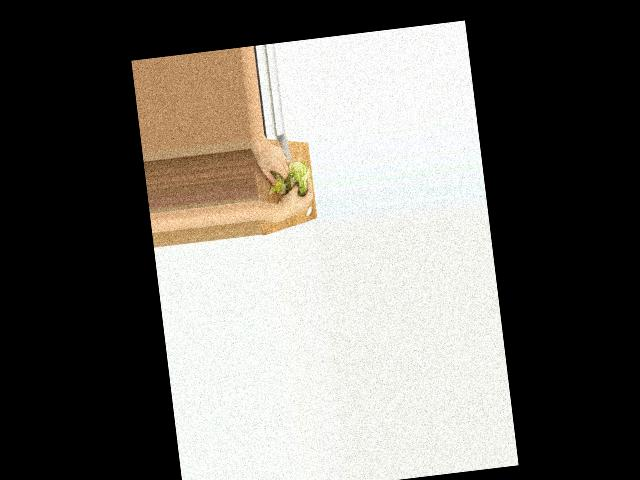lettuce: (285, 159, 311, 195)
